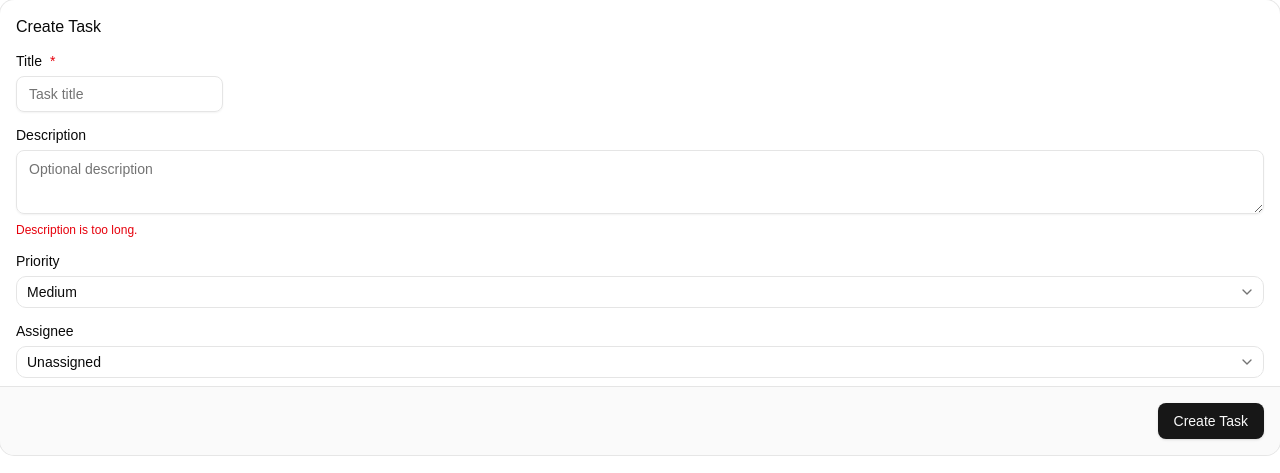
Test: TaskForm server-side field errors › clears description field error when user types in description
Expected: the text "Description is too long." is shown, [16,223,137,237]
Type "New description" into the text box labelled "Description" at (640, 182), box [16,150,1264,214]
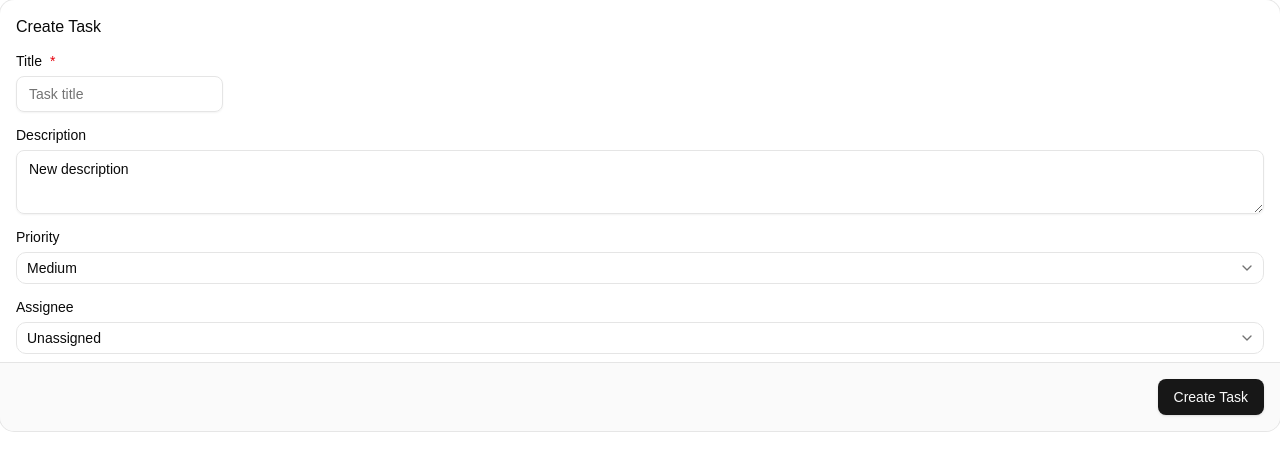
Now the text "Description is too long." is gone
